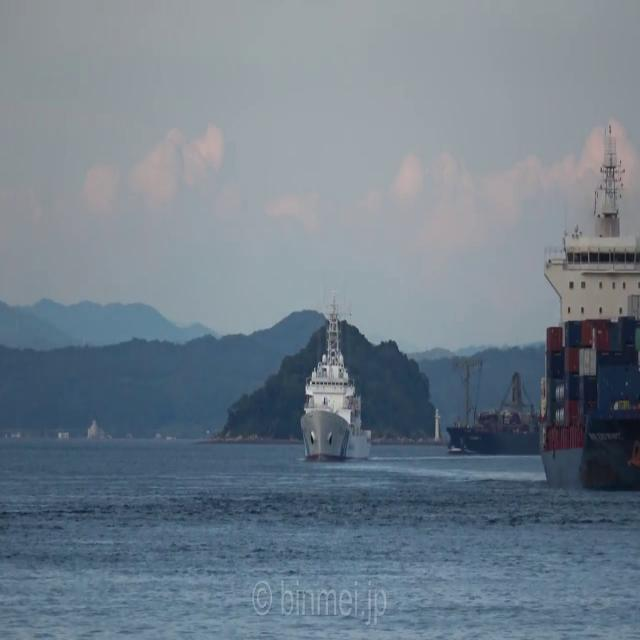Ship: (548, 133, 640, 499), (296, 304, 374, 463)
